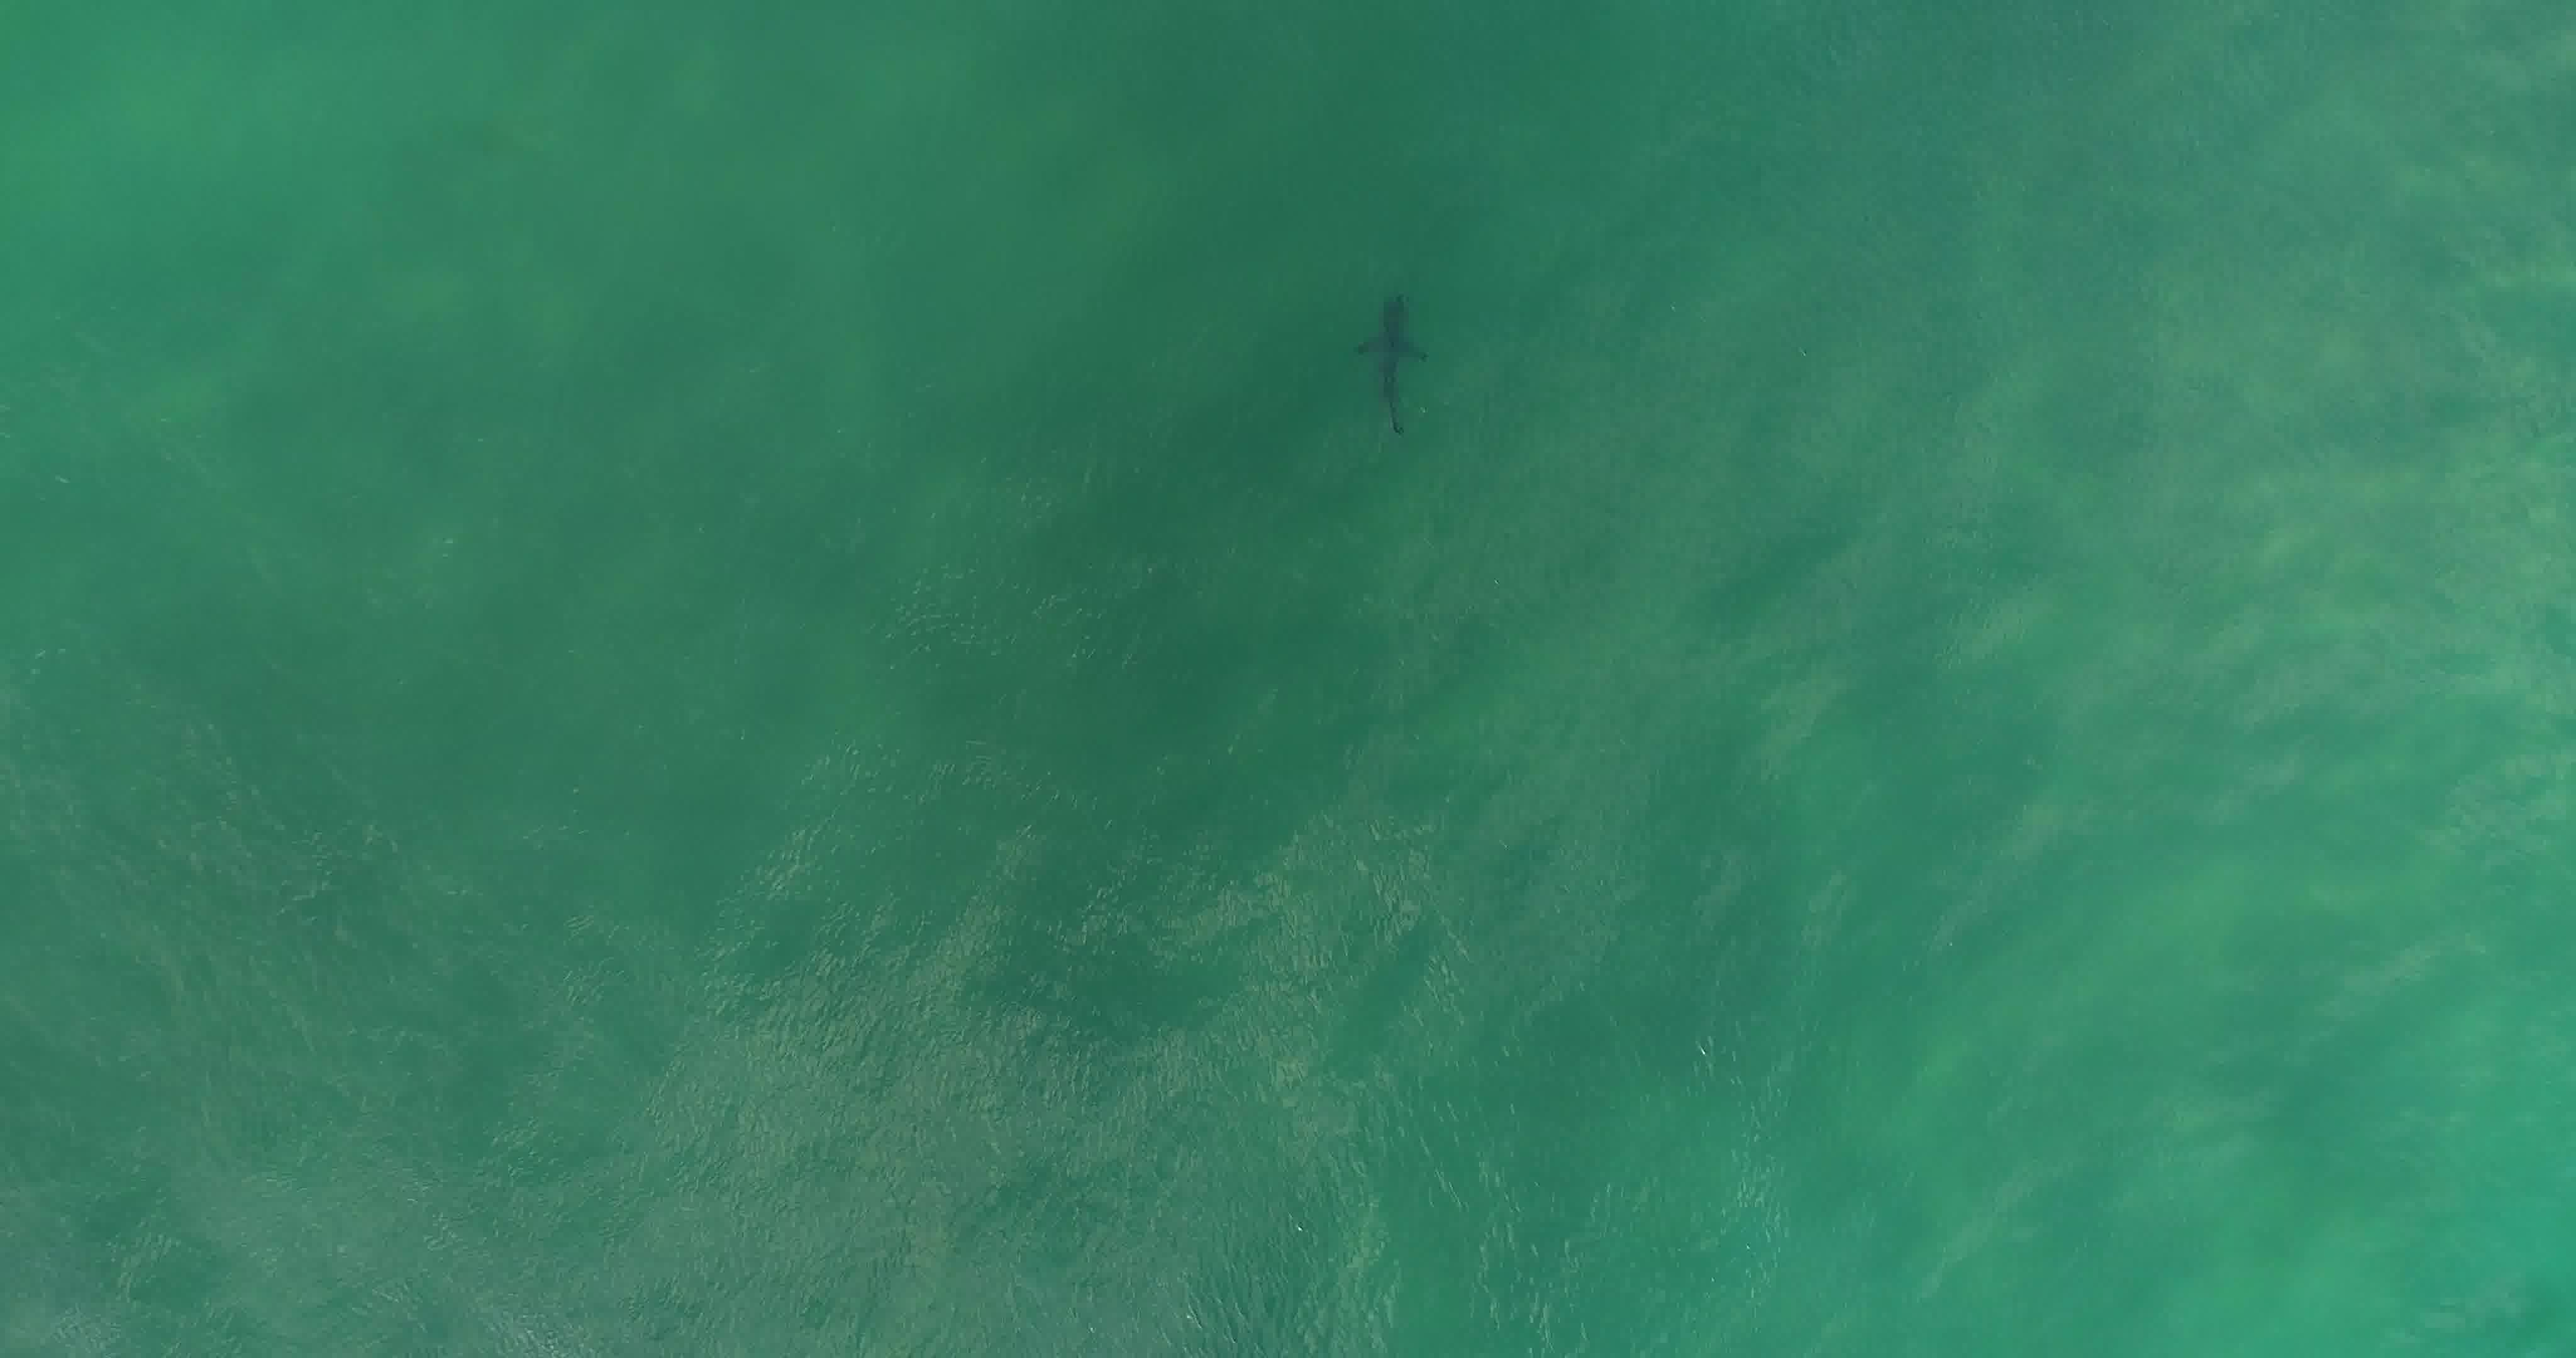shark: (1351, 286, 1435, 443)
